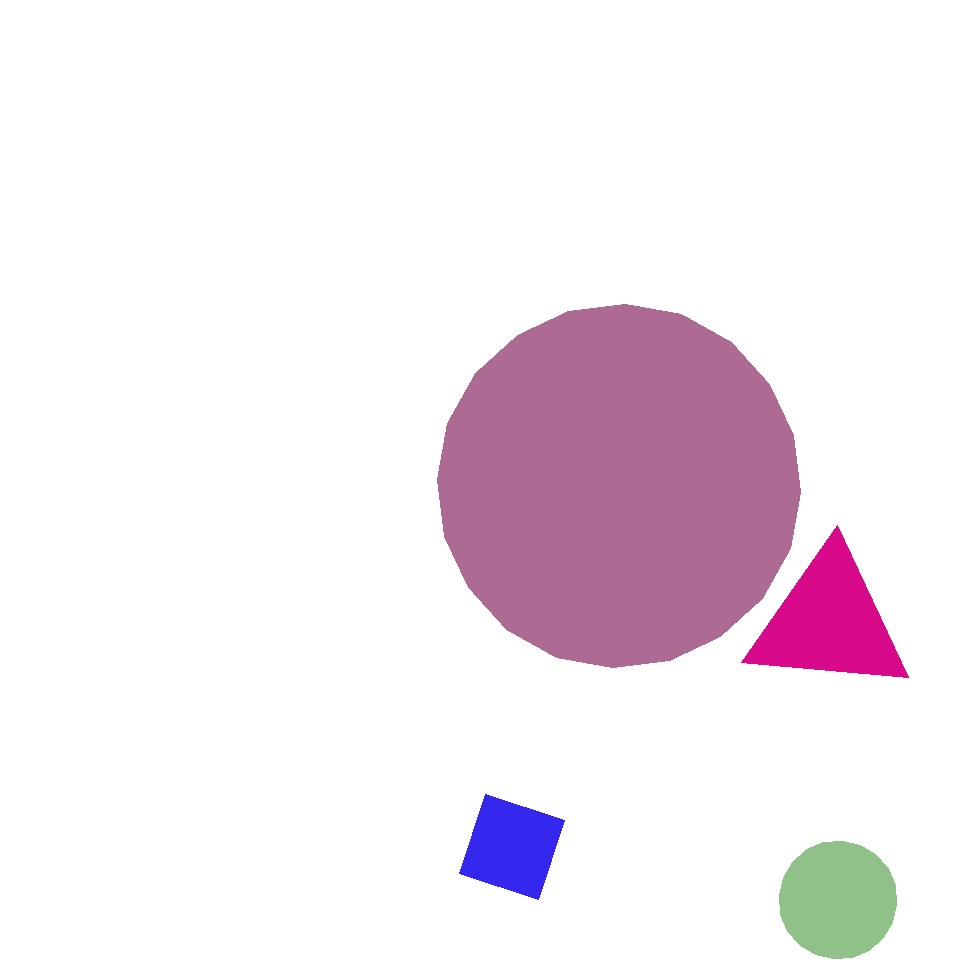circle: (243, 676, 460, 894), (626, 450, 788, 636), (746, 546, 912, 698)
square: (342, 116, 708, 482), (444, 488, 732, 776), (354, 752, 462, 860), (460, 794, 564, 900)
triangle: (437, 304, 800, 668), (780, 842, 896, 958)
